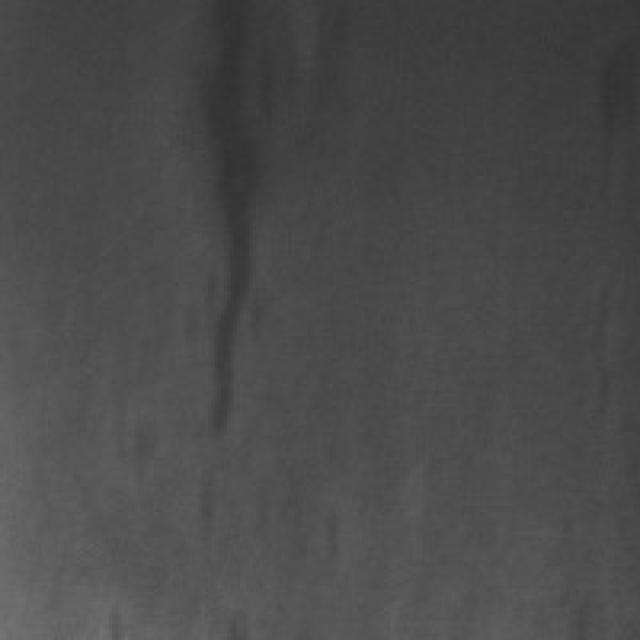inclusion: (176, 0, 275, 438), (580, 22, 630, 196), (298, 0, 352, 154)
